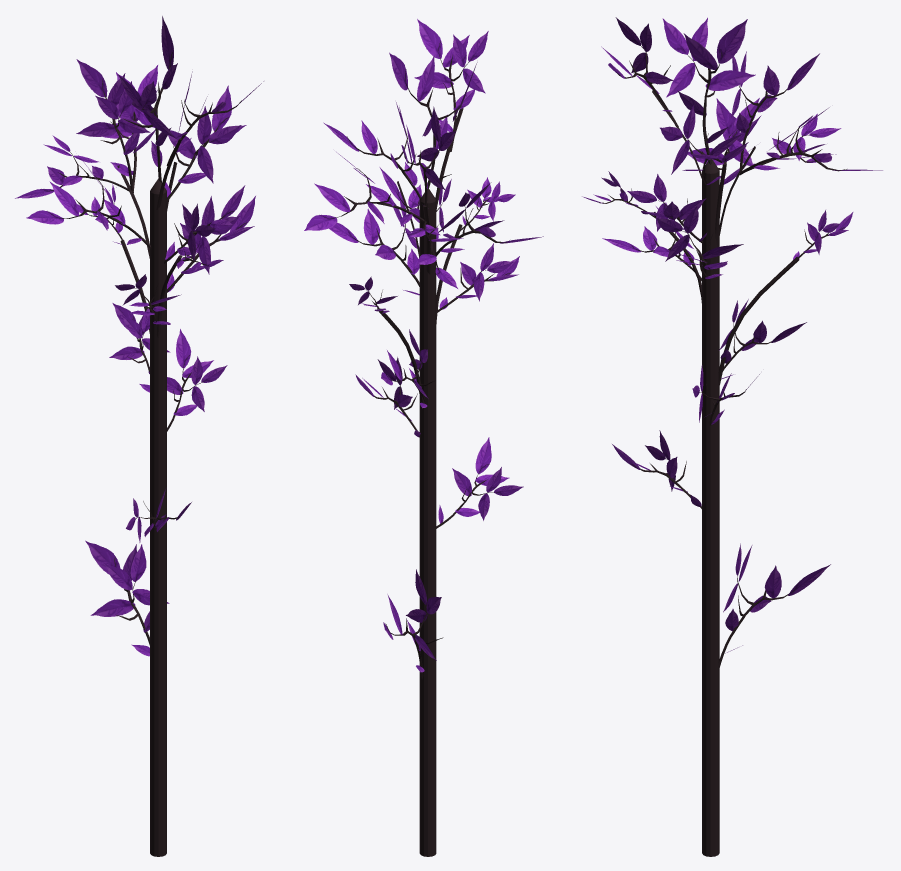
The model's file is purpletree11.fbx.
3 renders of one model, left to right at view 1: azimuth 30°, elevation 25°; view 2: azimuth 150°, elevation 25°; view 3: azimuth 270°, elevation 25°, orthographic. The views are drawn at different scales.
Parts seen in each view (by area): view 1: pCylinder1066; view 2: pCylinder1066; view 3: pCylinder1066.
Part boxes in pixels (<box>): pCylinder1066: <box>15,16,263,856</box>; pCylinder1066: <box>304,19,543,856</box>; pCylinder1066: <box>582,17,882,856</box>.
Size of the model in its own units: 10.72 by 35.94 by 11.84.
